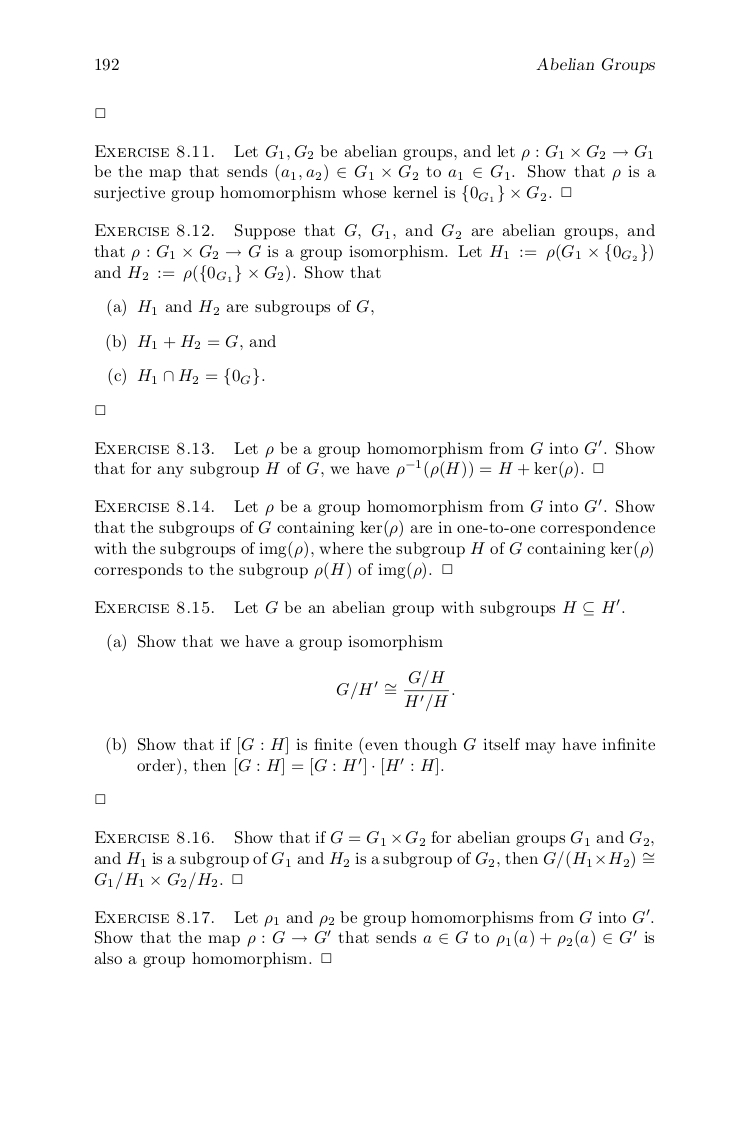formula: (336, 669, 454, 712), (106, 333, 275, 352), (108, 367, 264, 386)
